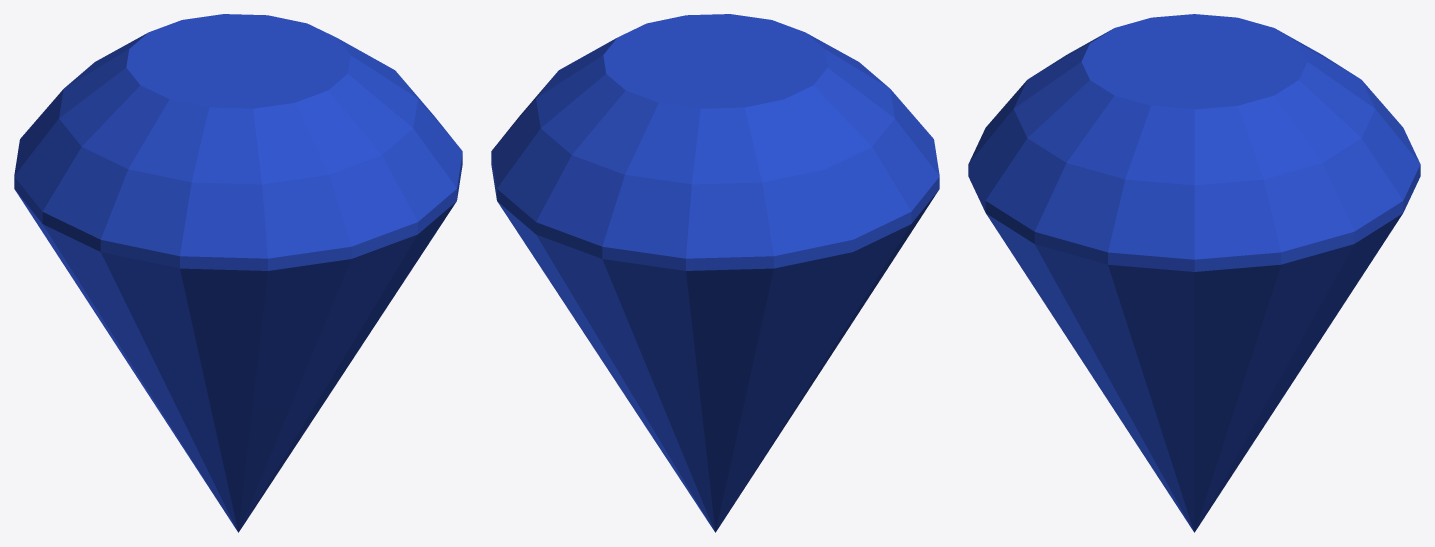
Rendered from SM_Sapphire_Perfect.fbx.
The picture shows the model from 3 angles, left to right: view 1: azimuth 30°, elevation 25°; view 2: azimuth 150°, elevation 25°; view 3: azimuth 270°, elevation 25°; orthographic projection.
Parts seen in each view (by area): view 1: SM_Sapphire_Perfect; view 2: SM_Sapphire_Perfect; view 3: SM_Sapphire_Perfect.
Part boxes in pixels (box(x1,y1,x2,y2)): SM_Sapphire_Perfect: box(14, 14, 462, 532); SM_Sapphire_Perfect: box(491, 14, 939, 532); SM_Sapphire_Perfect: box(968, 14, 1420, 532).
Size of the model in its own units: 20 by 20 by 23.
